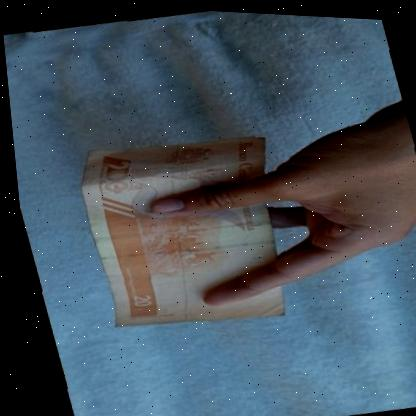twenty-back-vef: (62, 116, 309, 345)
